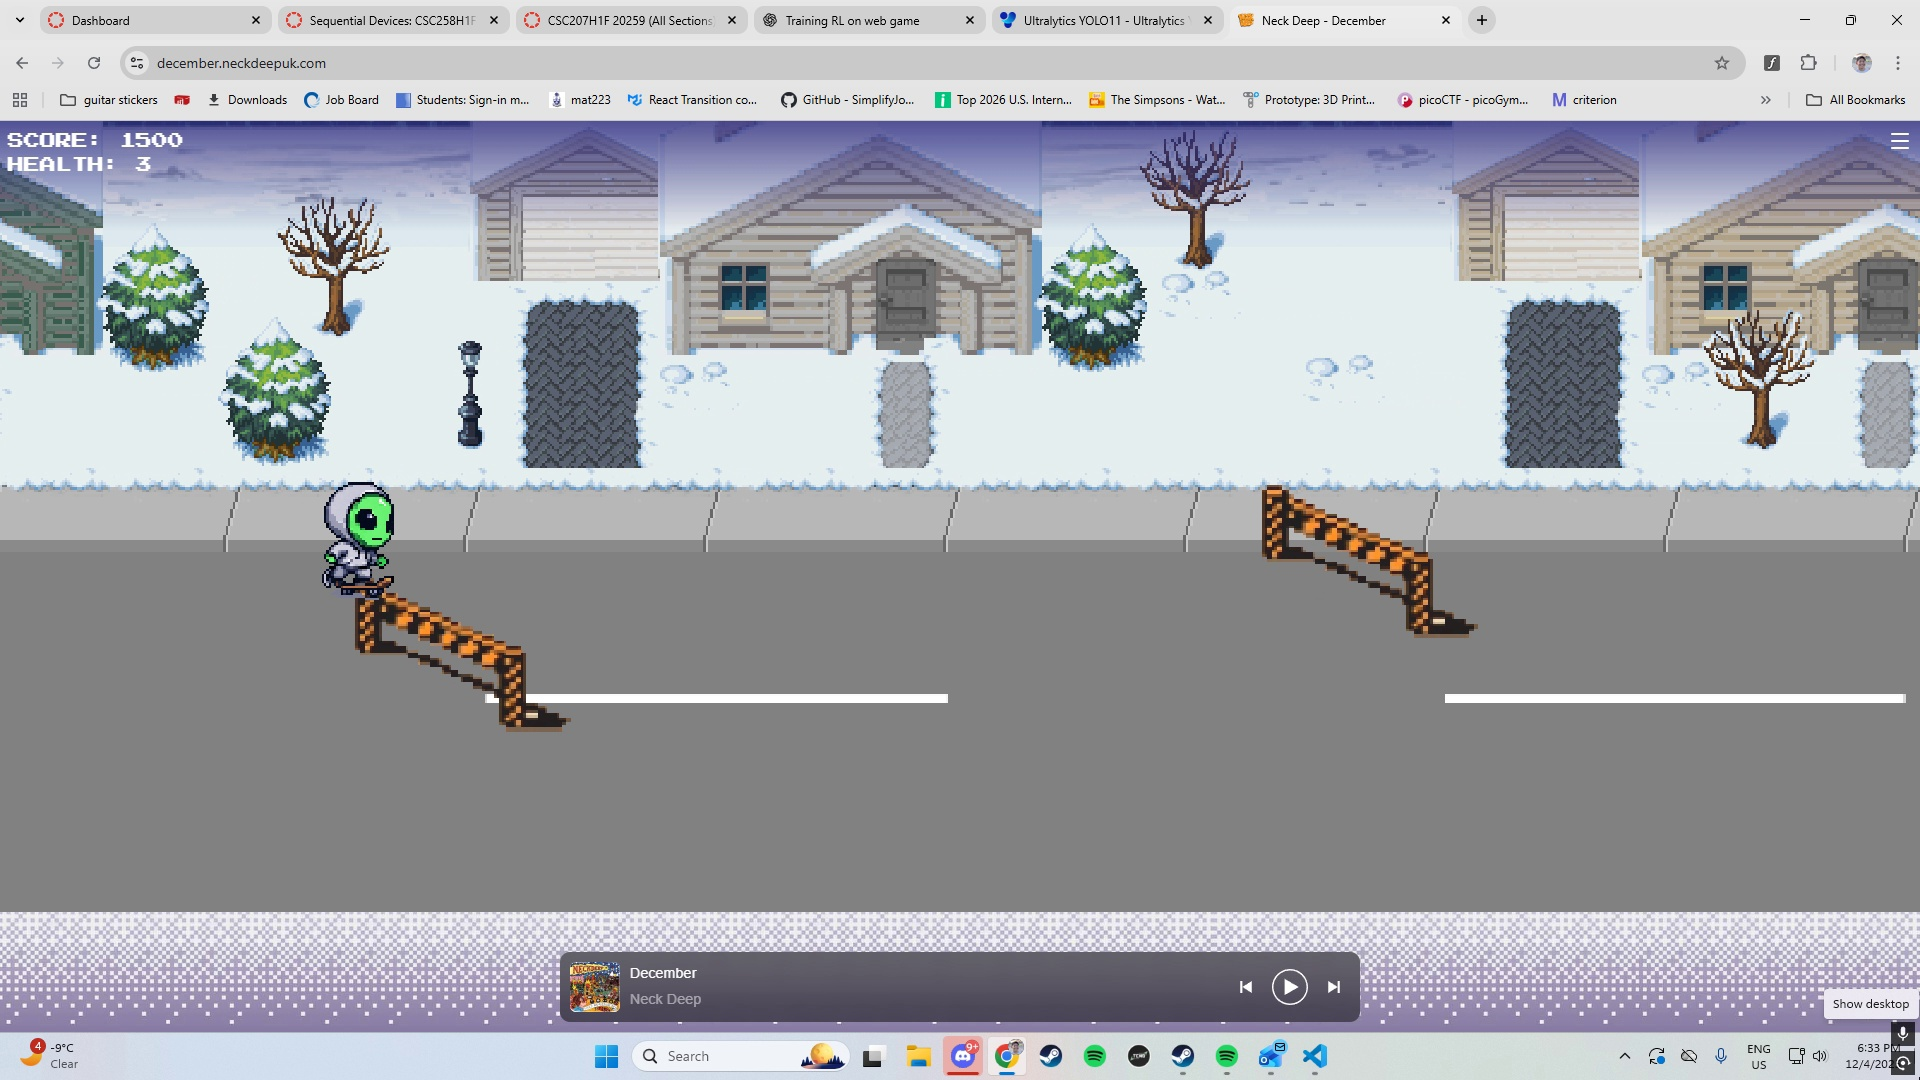Player: (316, 476, 409, 605)
RoadBlock: (1251, 479, 1488, 645), (336, 575, 577, 736)
